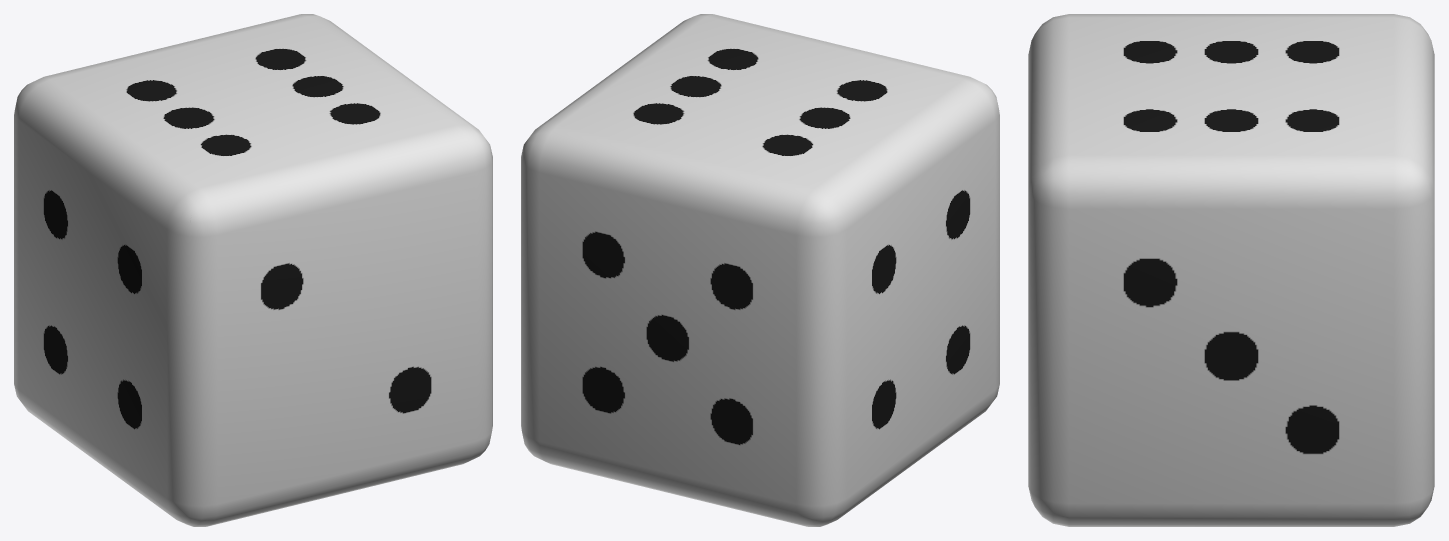
File: dice.glb
The picture shows the model from 3 angles, left to right: view 1: azimuth 30°, elevation 25°; view 2: azimuth 150°, elevation 25°; view 3: azimuth 270°, elevation 25°; orthographic projection. The views are drawn at different scales.
Parts seen in each view (by area): view 1: Dice_lo; view 2: Dice_lo; view 3: Dice_lo.
Part boxes in pixels (x1=…): Dice_lo: x1=14, y1=14, x2=492, y2=526; Dice_lo: x1=521, y1=14, x2=999, y2=526; Dice_lo: x1=1028, y1=14, x2=1434, y2=526.
Bounding box in the file's own units: 2 × 2 × 2.
1 material, 1 textured.
